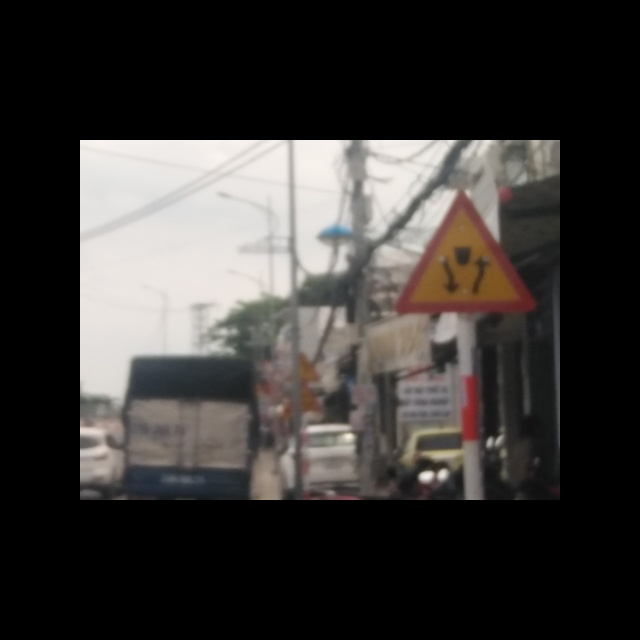Đường đôi: (394, 188, 534, 317)
